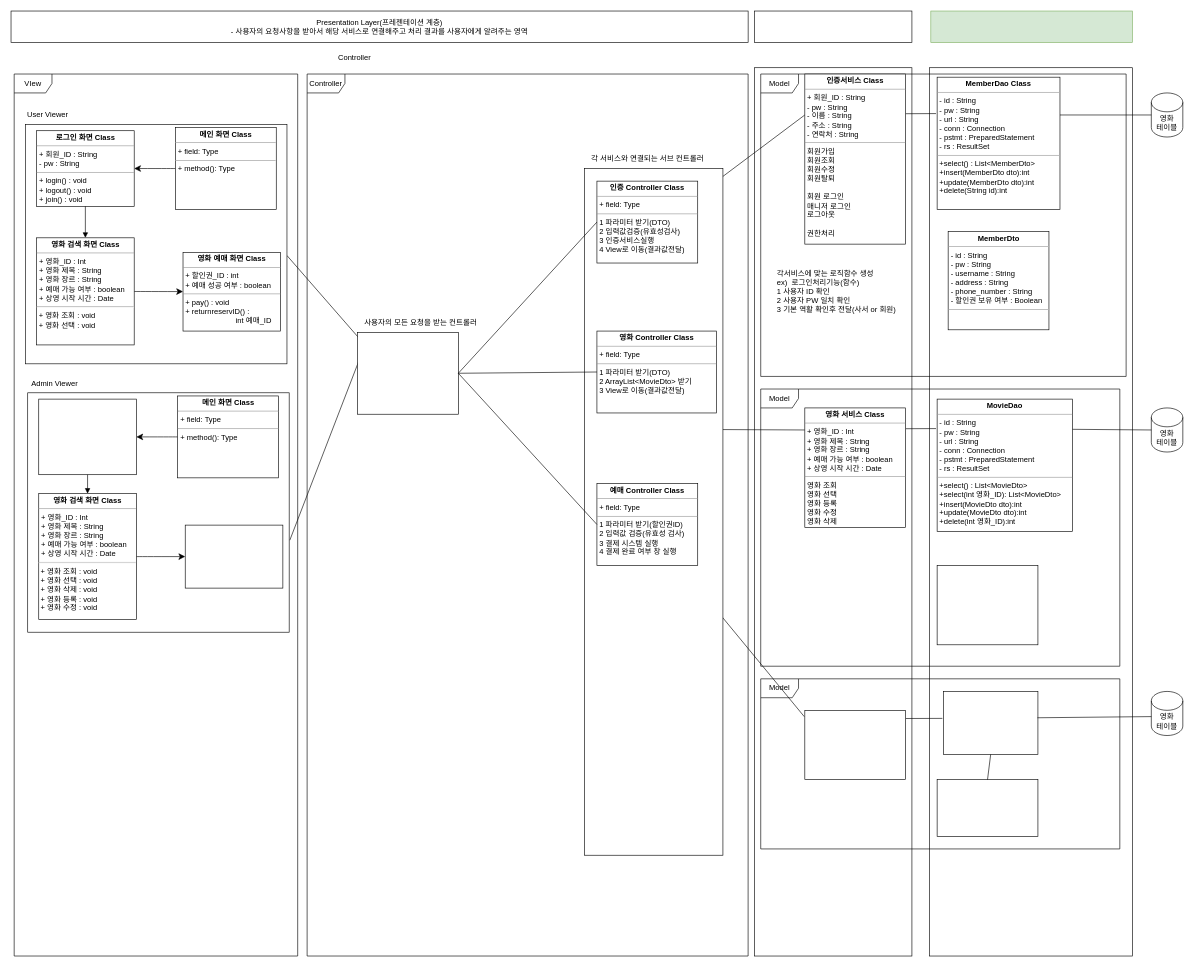
This 1194x967 diagram has some shape labels left out. Each missing label, with the box of its shape:
Business Layer: (754, 10, 912, 43)
FrontController Class + field: Type + method(): Type: (357, 332, 458, 414)
MovieDto - 영화_ID: int - 영화제목 : String - 영화장르 : String - 영화예매여부: Boolean: (936, 565, 1038, 645)
Persistance Layer: (930, 10, 1132, 43)
로그인 화면 Class + 관리자_ID : String - pw : String + login() : void + logout() : void: (38, 398, 136, 475)
영화 예매 화면 Class + 할인권_ID : int + access() : void + cancel() : void: (185, 524, 283, 588)
예매서비스 Class + 예매_ID : int + 예매 처리 여부 : boolean 예매 승인 예매 취소: (804, 710, 906, 780)
예매정보저장 Class + field: Type + method(): Type: (936, 779, 1038, 836)
예매테이블 CRUD Class + field: Type + method(): Type: (943, 691, 1038, 754)
